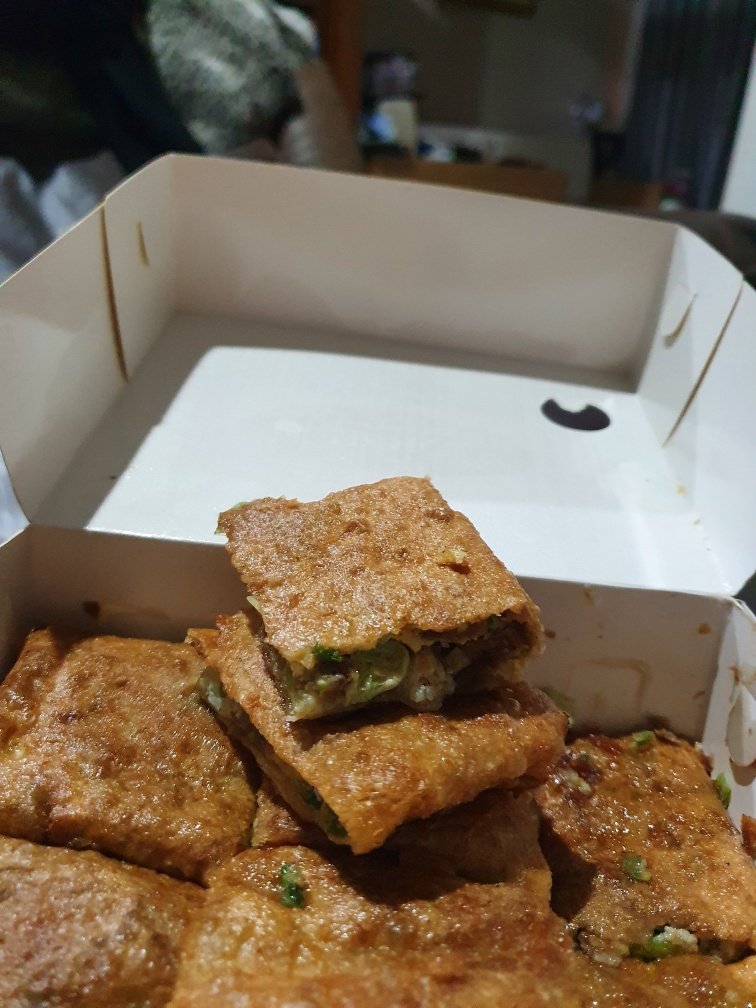martabak telor: (188, 594, 572, 829), (213, 486, 544, 687), (7, 592, 242, 875)
